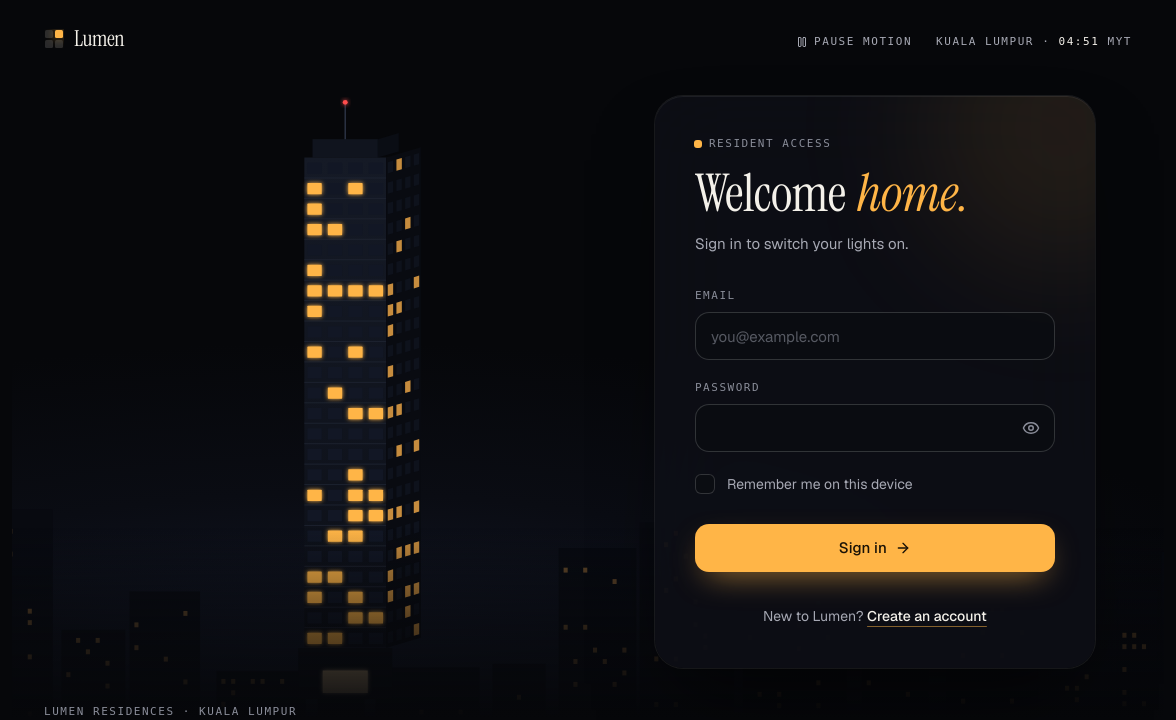
Sign-in page › announces wrong credentials generically and clears the password
The width and height of the screenshot is (1176, 720).
Type "demo@lumen.my" into the field labelled "Email".
click(875, 336); type("demo@lumen.my")  # box left=695, top=312, right=1055, bottom=360
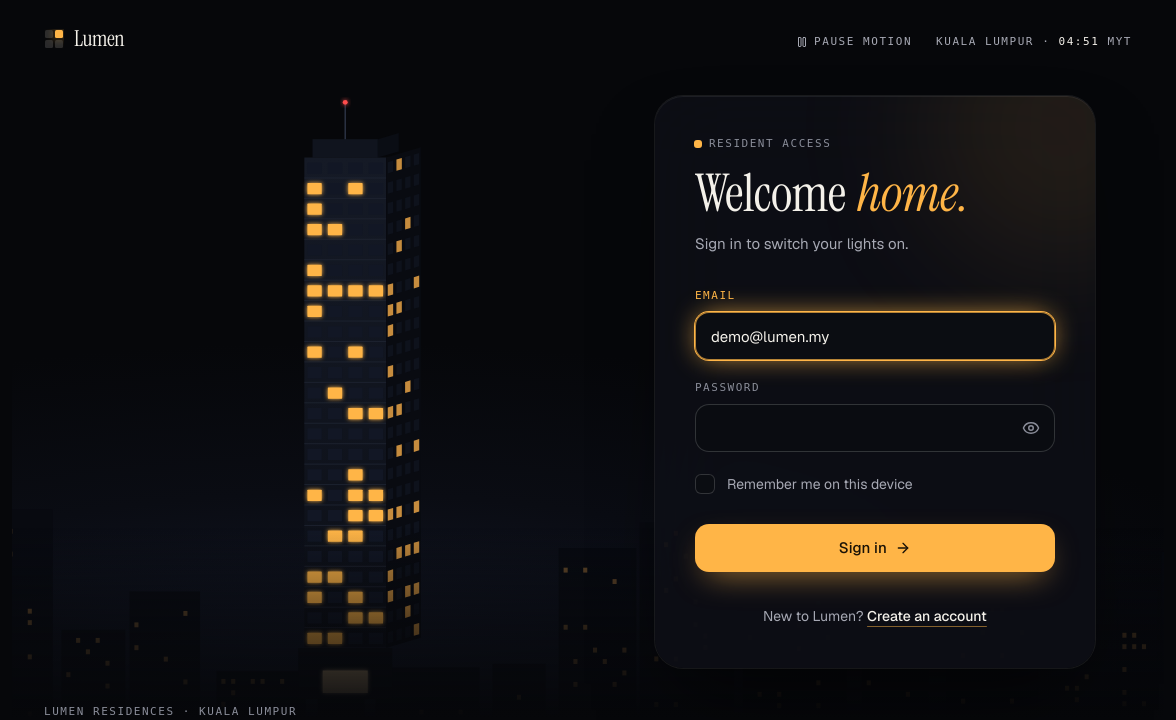
Type "wrong-password" into the password field labelled "Password".
click(854, 428); type("wrong-password")  # box left=695, top=404, right=1013, bottom=452
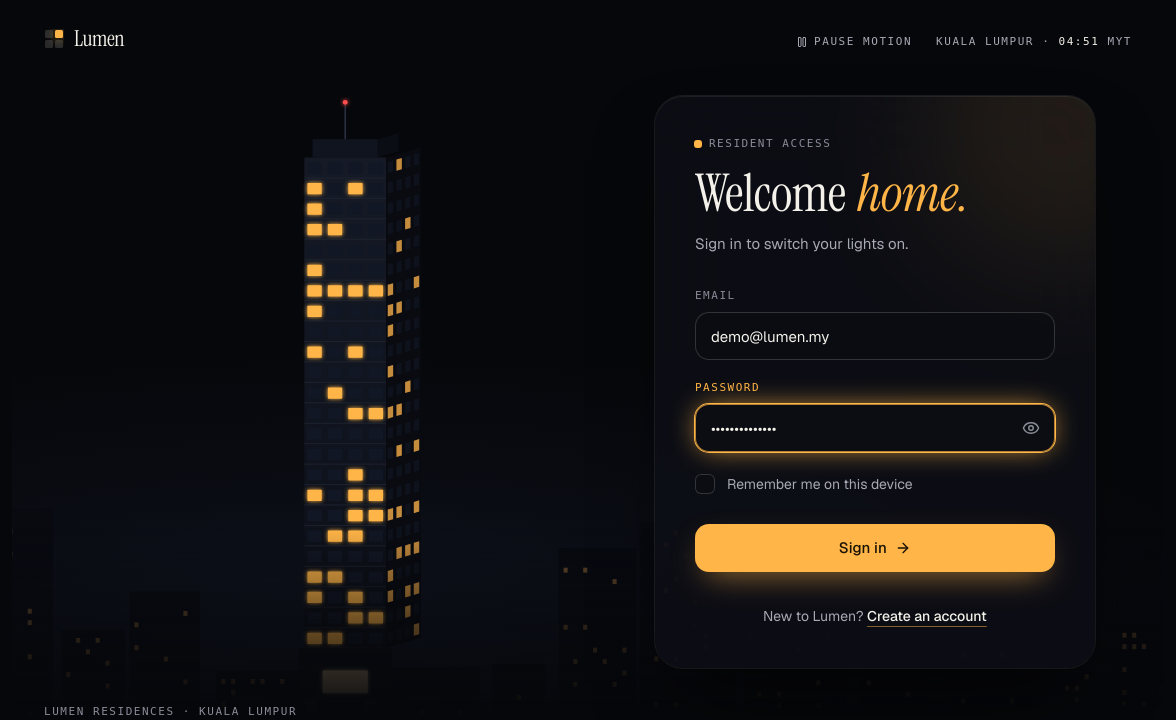
Click the button "Sign in".
click(875, 548)  # box left=695, top=524, right=1055, bottom=572
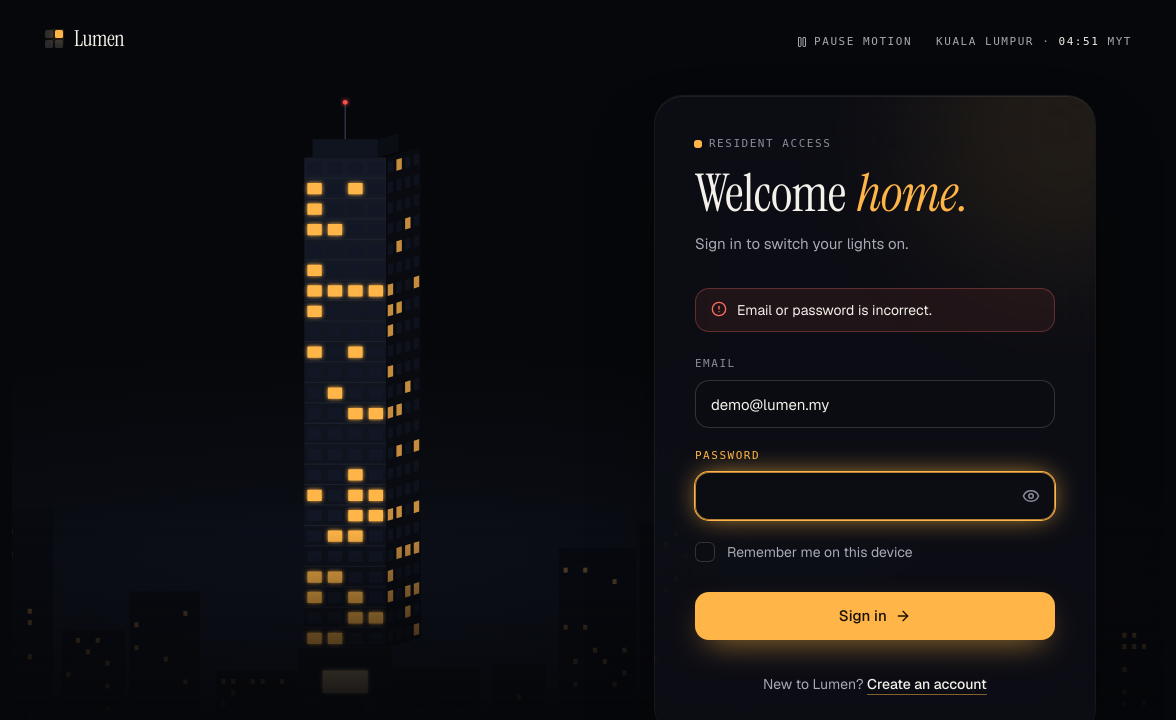
Check: the message reads "Email or password is incorrect.", box left=737, top=301, right=932, bottom=319
Check: the password field labelled "Password" is empty, box left=695, top=472, right=1013, bottom=520
